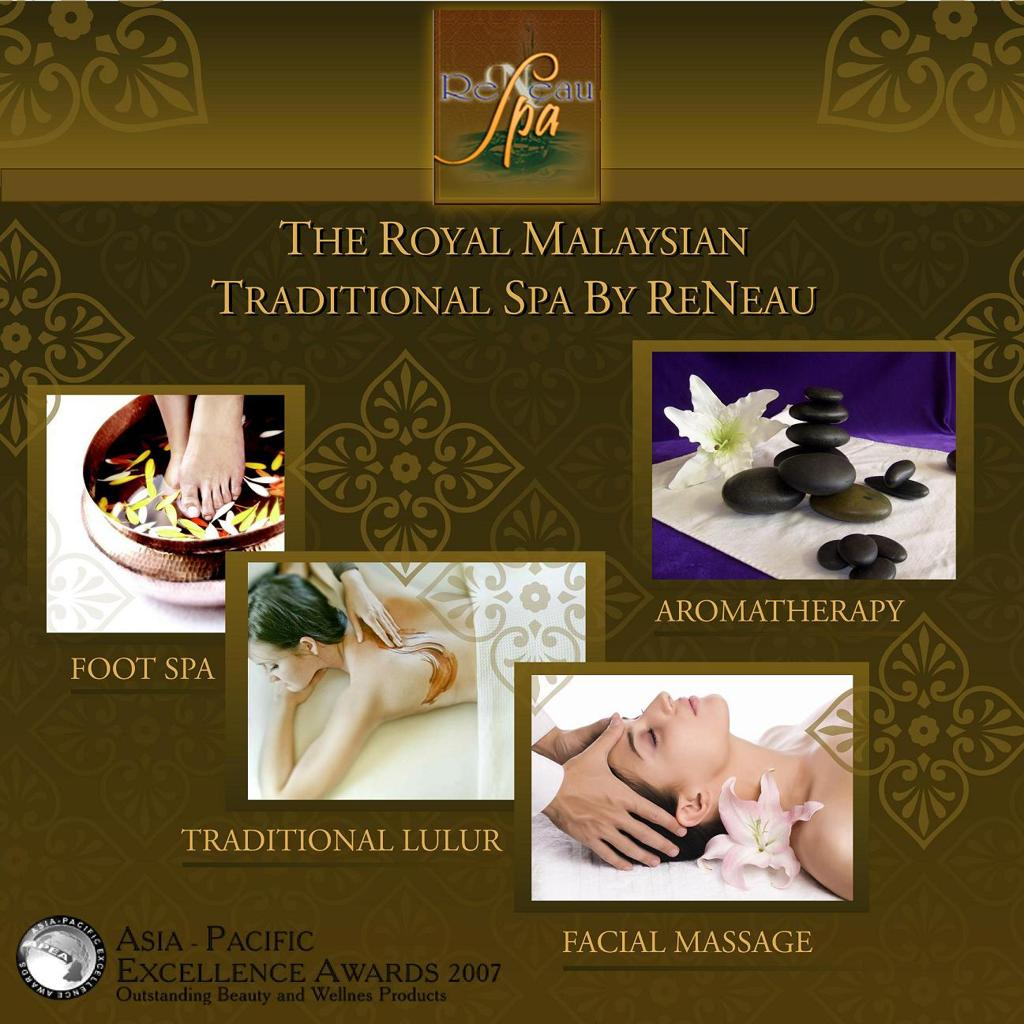face: (566, 690, 732, 786), (248, 632, 308, 692)
